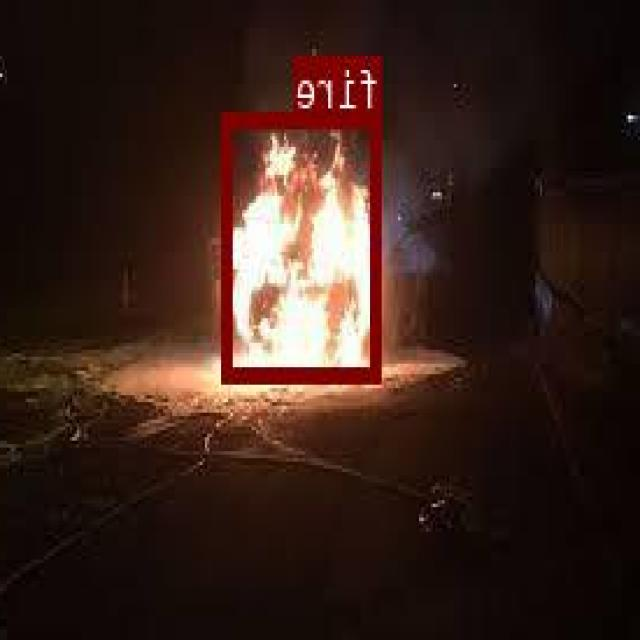fire: (224, 110, 384, 380)
